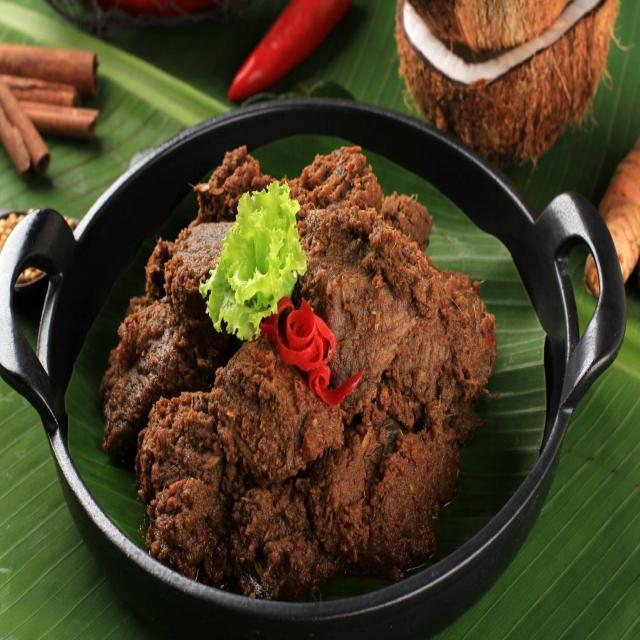Rendang: (75, 136, 517, 598)
